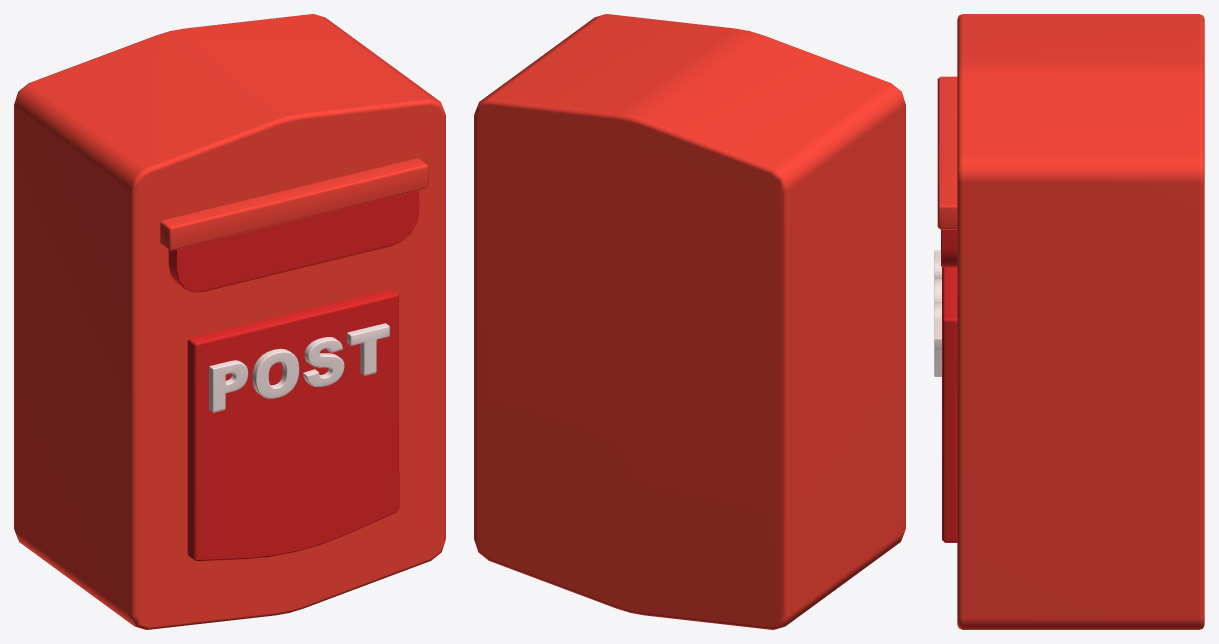
Rendered from City_4_Mailbox_1.glb.
3 views of the same model, side by side, from view 1: azimuth 30°, elevation 25°; view 2: azimuth 150°, elevation 25°; view 3: azimuth 270°, elevation 25° (orthographic). The views are drawn at different scales.
Visible parts, largest first — view 1: City_4_Mailbox_1; view 2: City_4_Mailbox_1; view 3: City_4_Mailbox_1.
Boxes of the visible parts, bbox=[...] form: City_4_Mailbox_1: bbox=[14, 14, 445, 629]; City_4_Mailbox_1: bbox=[474, 14, 905, 629]; City_4_Mailbox_1: bbox=[934, 14, 1204, 629].
Bounding box in the file's own units: 0.5634 × 0.8494 × 0.4083.
1 material, 1 textured.
